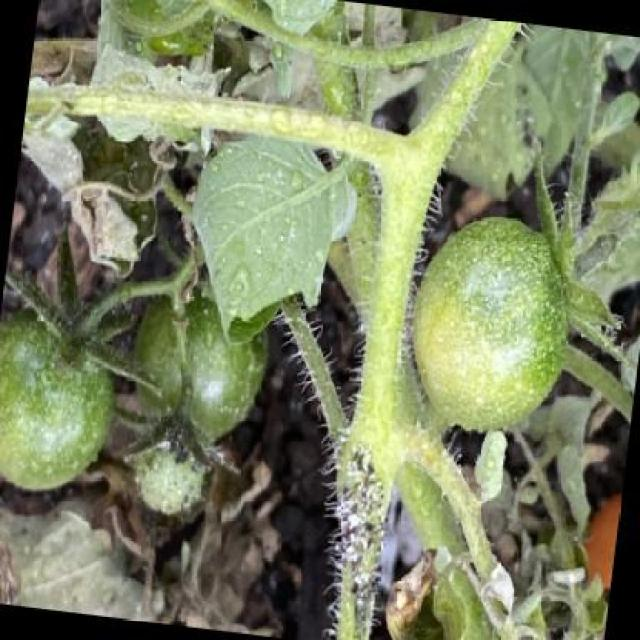unripe tomato: (401, 207, 581, 435), (122, 275, 273, 454), (0, 303, 125, 500)
